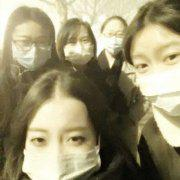OK: (23, 124, 102, 180), (133, 46, 180, 117), (12, 32, 53, 73), (66, 38, 96, 66), (102, 28, 127, 56)
